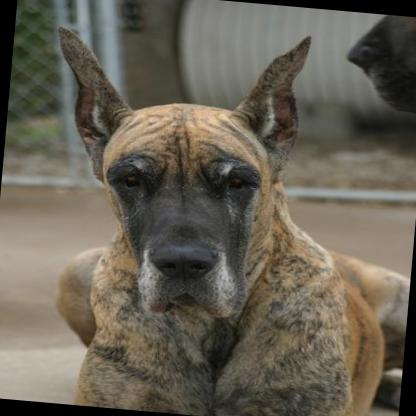Great_Dane: (10, 10, 416, 416)
